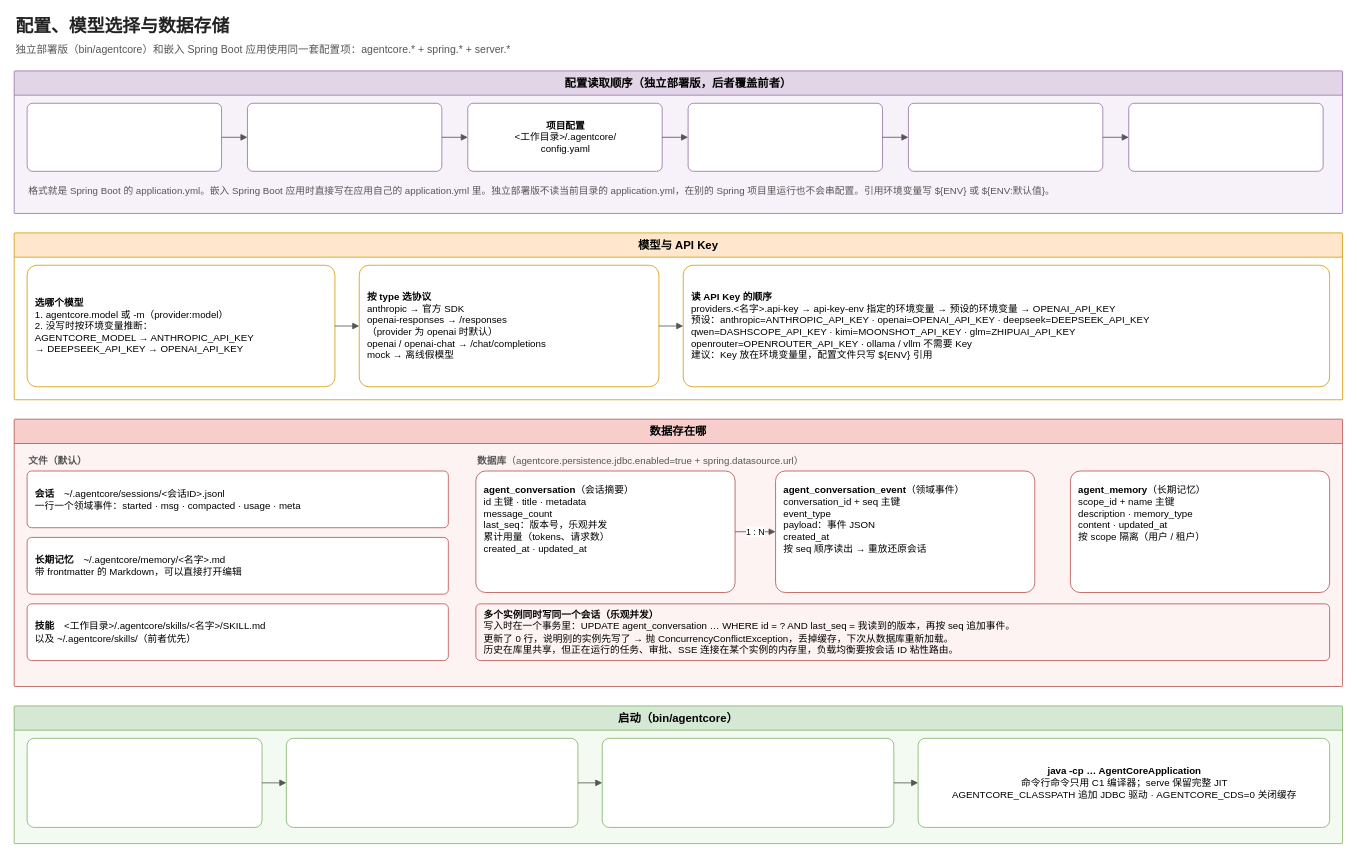
Some shapes in this 1357 by 858 pixel diagram are drawn without their labels. Here are the shapes that lost their labels. From the top down, the centre of each, then its label:
the point at 124,136: 内置默认 agentcore-cli.yml（jar 里） 日志 · 端口 · 导入链
the point at 344,136: 全局配置 ~/.agentcore/config.yaml （或 $AGENTCORE_HOME）
the point at 784,136: 项目配置 <工作目录>/agentcore.yaml
the point at 1005,136: --config 文件 命令行指定
the point at 1225,136: 命令行参数 -m · --yolo · --cwd --任意配置项=值
the point at 144,782: bin/agentcore 没有 jar 时先 mvn install
the point at 432,782: 解压 agentcore.jar → target/agentcore-app/ jar 更新后自动重新解压
the point at 747,782: CDS 类缓存 agentcore-app/agentcore.jsa 首次运行结束时生成，之后约 1.6 秒
